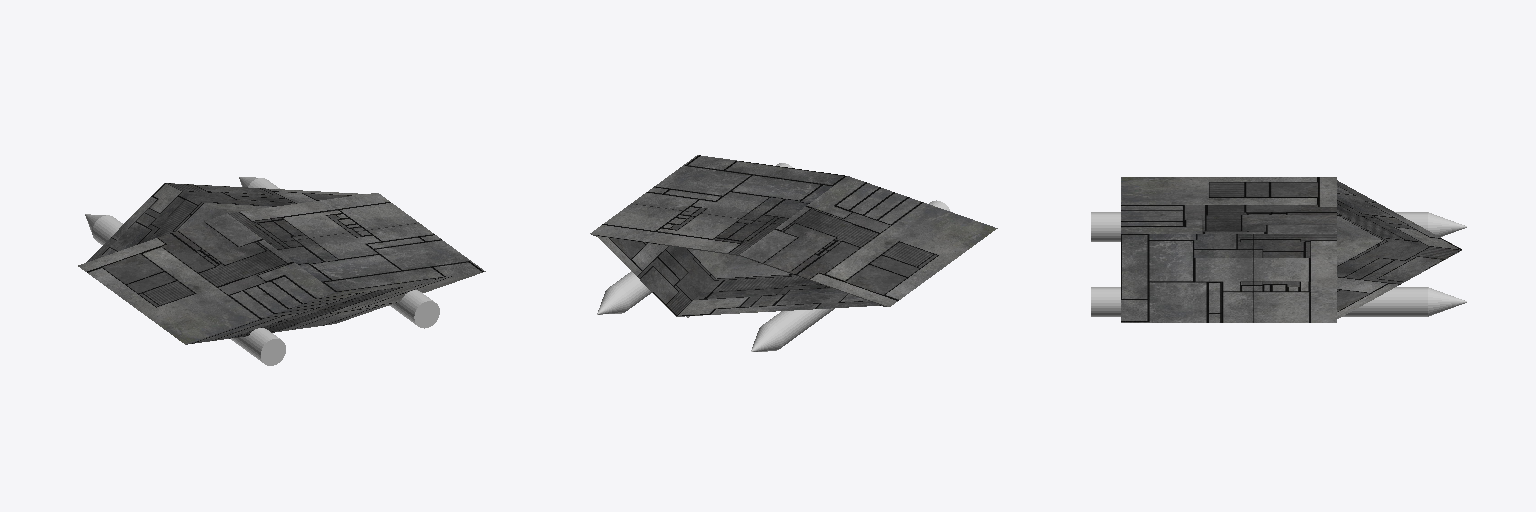
The picture shows the model from 3 angles: view 1: azimuth 30°, elevation 25°; view 2: azimuth 150°, elevation 25°; view 3: azimuth 270°, elevation 25°; orthographic projection.
Visible parts, largest first — view 1: Cube_Cube.004, Cone_Cone.001, Cylinder.004, Cylinder.003; view 2: Cube_Cube.004, Cone_Cone.001, Cylinder.004, Cylinder.003; view 3: Cube_Cube.004, Cone_Cone.001, Cylinder.003, Cylinder.004.
Boxes of the visible parts, x1=… form: Cube_Cube.004: x1=78, y1=193, x2=485, y2=344; Cone_Cone.001: x1=86, y1=183, x2=362, y2=262; Cylinder.004: x1=85, y1=214, x2=285, y2=365; Cylinder.003: x1=239, y1=177, x2=439, y2=328; Cube_Cube.004: x1=590, y1=155, x2=997, y2=306; Cone_Cone.001: x1=597, y1=236, x2=881, y2=316; Cylinder.004: x1=751, y1=200, x2=950, y2=351; Cylinder.003: x1=597, y1=163, x2=792, y2=314; Cube_Cube.004: x1=1121, y1=177, x2=1336, y2=322; Cone_Cone.001: x1=1337, y1=180, x2=1461, y2=318; Cylinder.003: x1=1091, y1=287, x2=1466, y2=316; Cylinder.004: x1=1091, y1=212, x2=1466, y2=241.
Bounding box in the file's own units: 7.04 × 0.9806 × 7.65.
7 materials, 1 textured.